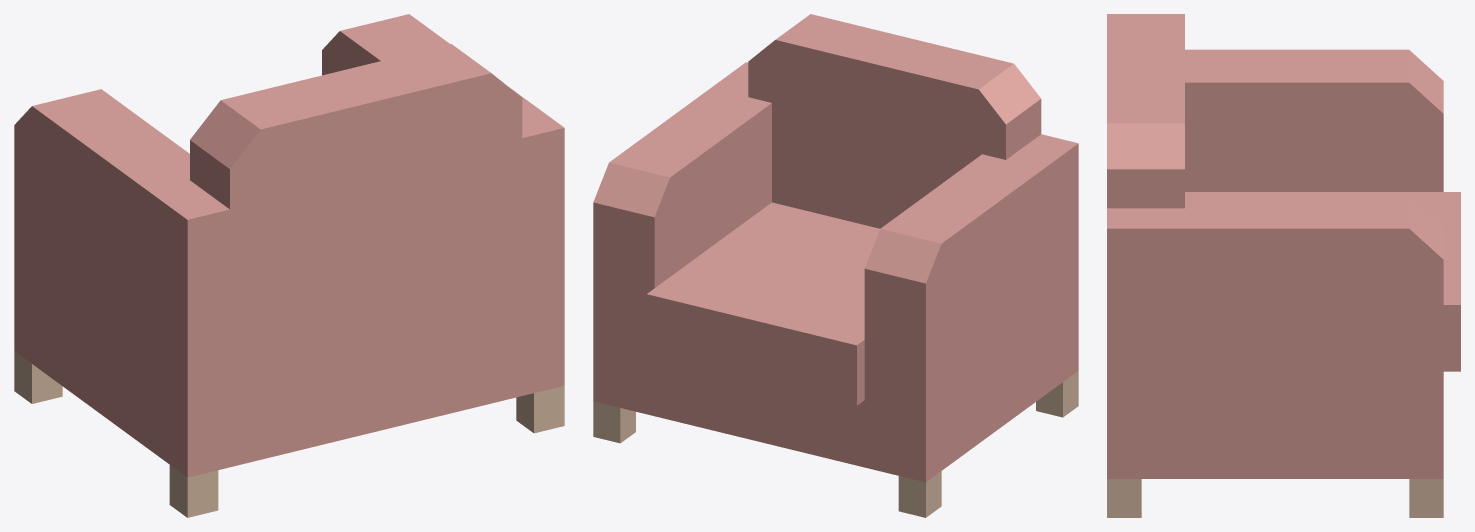
The model's file is lounge_chair.glb.
3 views of the same model, side by side, from view 1: azimuth 30°, elevation 25°; view 2: azimuth 150°, elevation 25°; view 3: azimuth 270°, elevation 25° (orthographic). The views are drawn at different scales.
Visible parts, largest first — view 1: loungeChair(Clone); view 2: loungeChair(Clone); view 3: loungeChair(Clone).
Part boxes in pixels (x1=…): loungeChair(Clone): x1=14, y1=14, x2=564, y2=517; loungeChair(Clone): x1=593, y1=14, x2=1078, y2=517; loungeChair(Clone): x1=1107, y1=14, x2=1460, y2=517.
Size of the model in its own units: 1.03 by 0.966 by 0.861.
